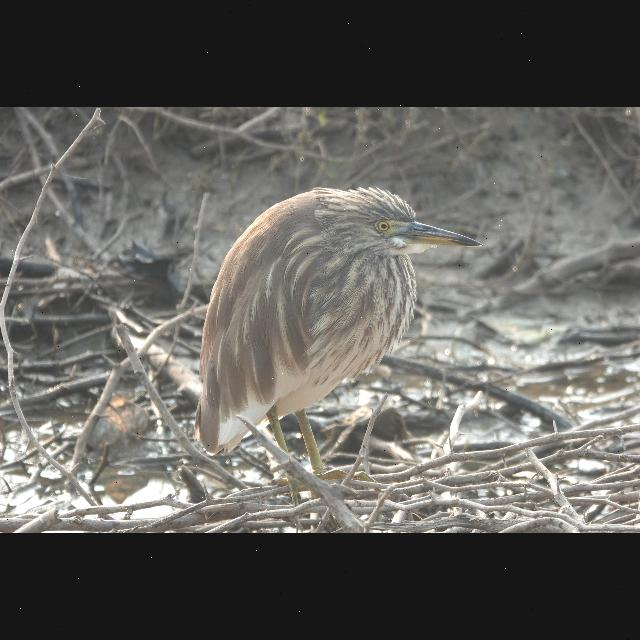heron: (188, 180, 480, 492)
